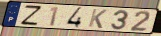1: (49, 6, 60, 27)
2: (130, 10, 153, 32)
3: (110, 9, 129, 30)
4: (65, 6, 83, 29)
K: (87, 8, 108, 29)
Z: (20, 4, 44, 26)
